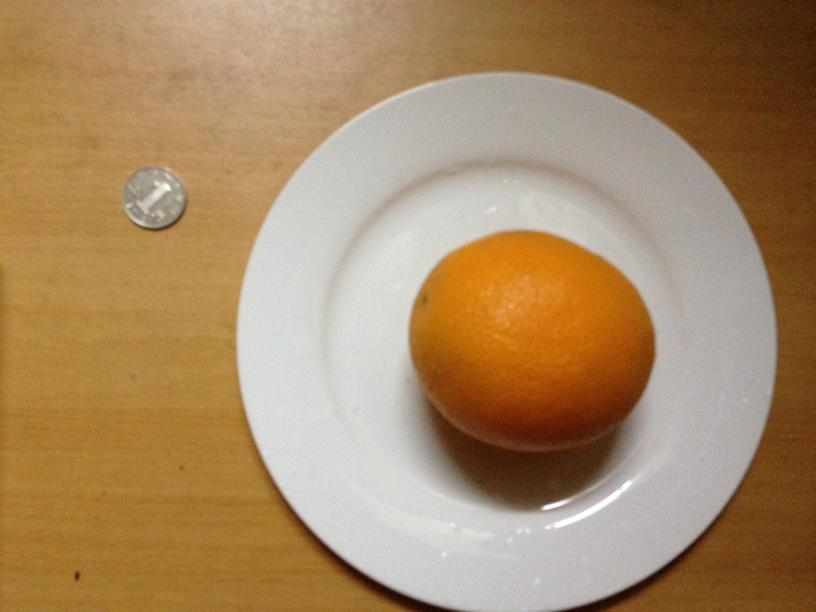coin: (119, 169, 187, 228)
orange: (409, 233, 655, 455)
